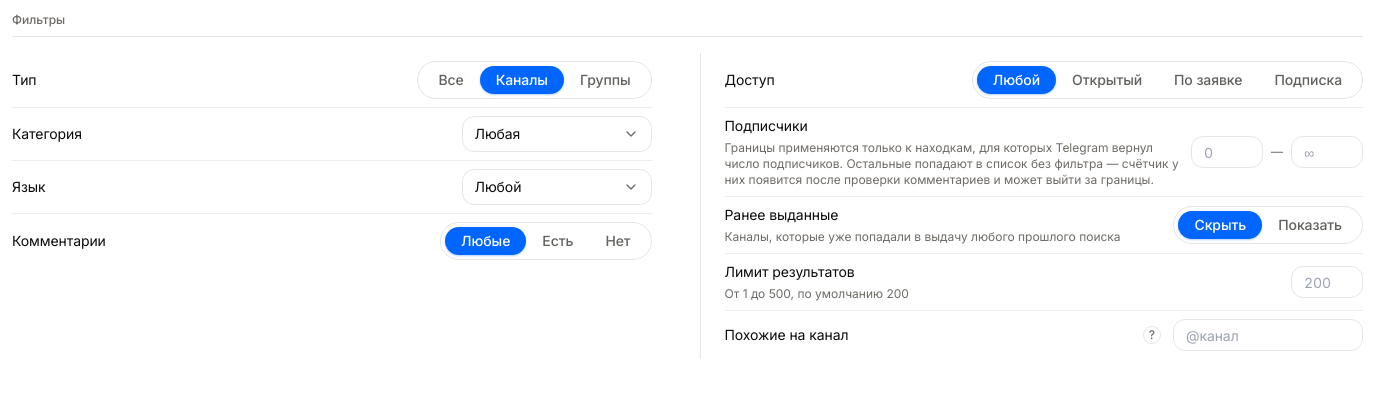
Test case: DiscoveryFilters › flags a limit outside the bounds instead of clamping it
Type "600" into the field labelled "Лимит результатов" at (1327, 282), box x1=1291 y1=266 x2=1363 y2=298
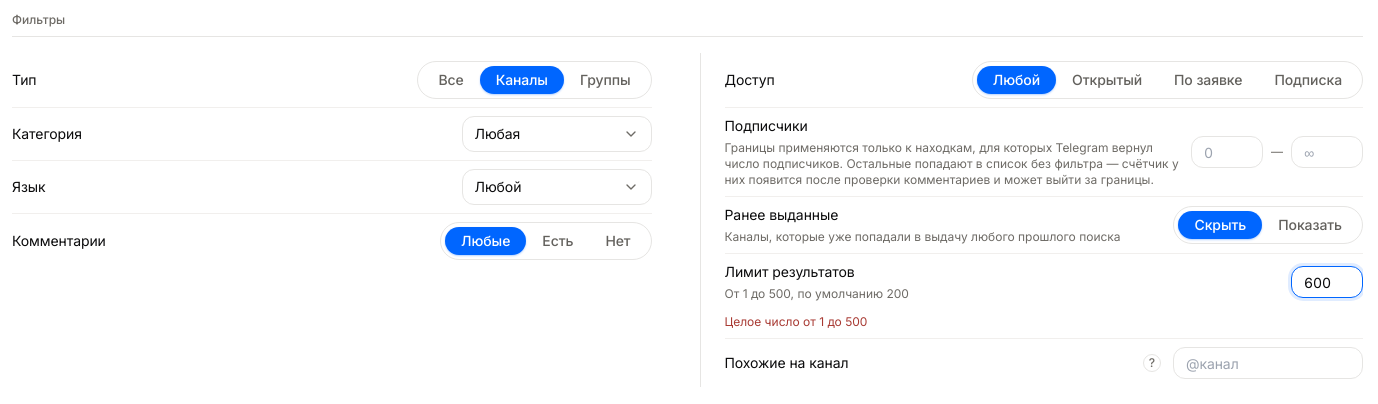
Check: the field labelled "Лимит результатов" is marked as invalid
Clear the field labelled "Лимит результатов" at (1327, 282), box x1=1291 y1=266 x2=1363 y2=298
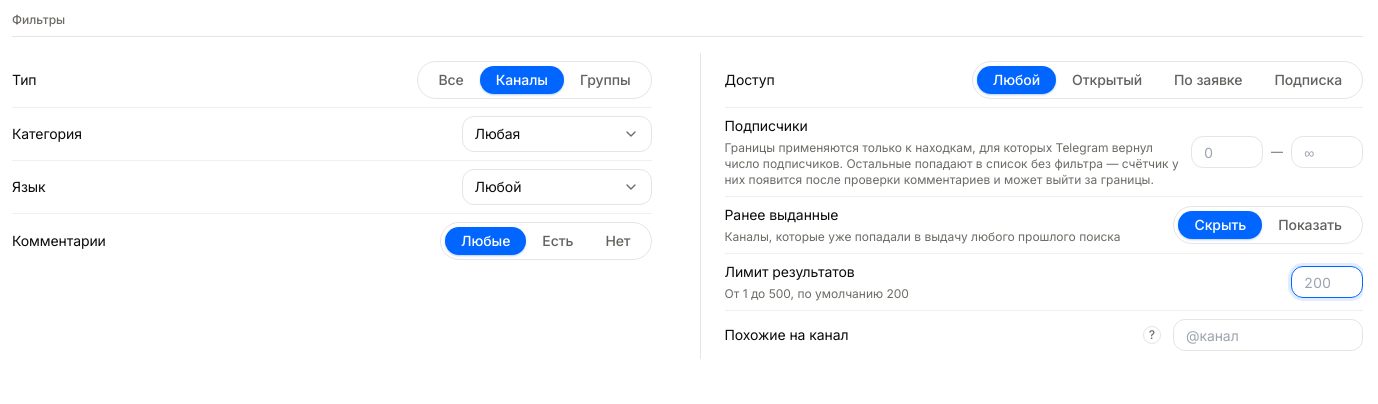
Check: the text "Целое число от 1 до 500" is gone
